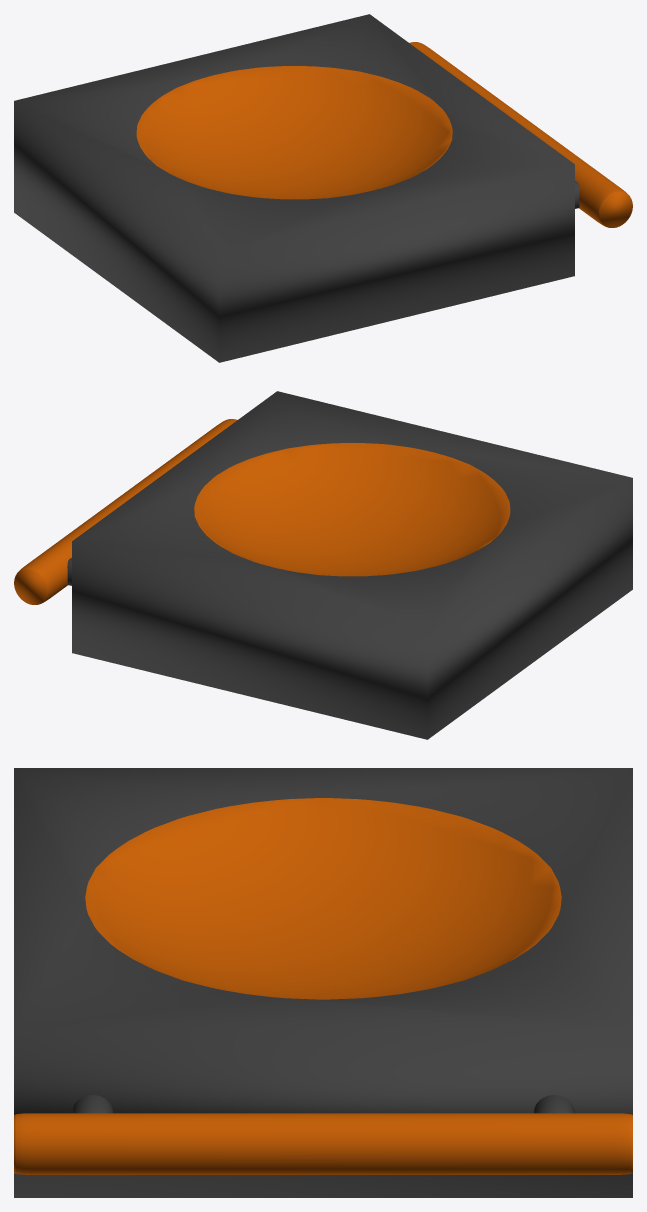
File: carbon_bond_plate.glb
The picture shows the model from 3 angles, top to bottom: view 1: azimuth 30°, elevation 25°; view 2: azimuth 150°, elevation 25°; view 3: azimuth 270°, elevation 25°; orthographic projection. The views are drawn at different scales.
Visible parts, largest first — view 1: Cube, Cylinder; view 2: Cube, Cylinder; view 3: Cube, Cylinder, Cylinder.001, Cylinder.002.
Part boxes in pixels (x1,y1,x2,y2): Cube: [14, 14, 574, 362]; Cylinder: [409, 42, 632, 227]; Cube: [72, 391, 632, 739]; Cylinder: [14, 419, 237, 604]; Cube: [14, 768, 632, 1197]; Cylinder: [14, 1113, 632, 1174]; Cylinder.001: [72, 1095, 113, 1113]; Cylinder.002: [533, 1095, 574, 1113].
Bounding box in the file's own units: 2.33 × 0.6 × 2.
